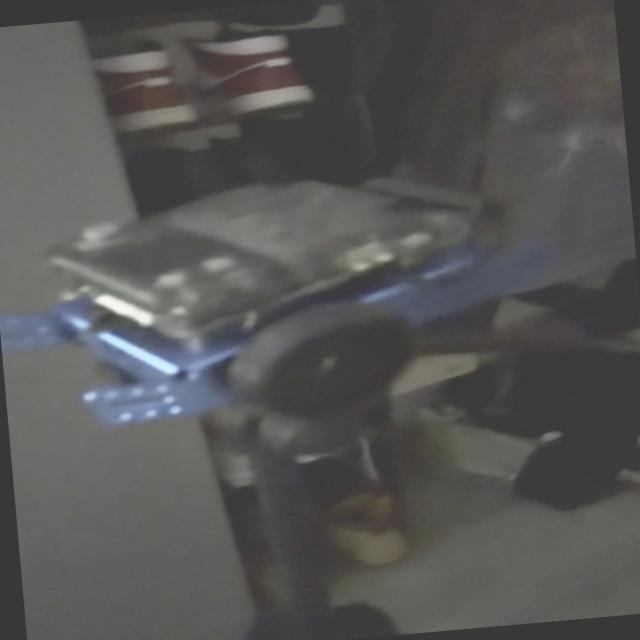mbot-detection: (0, 134, 574, 476)
